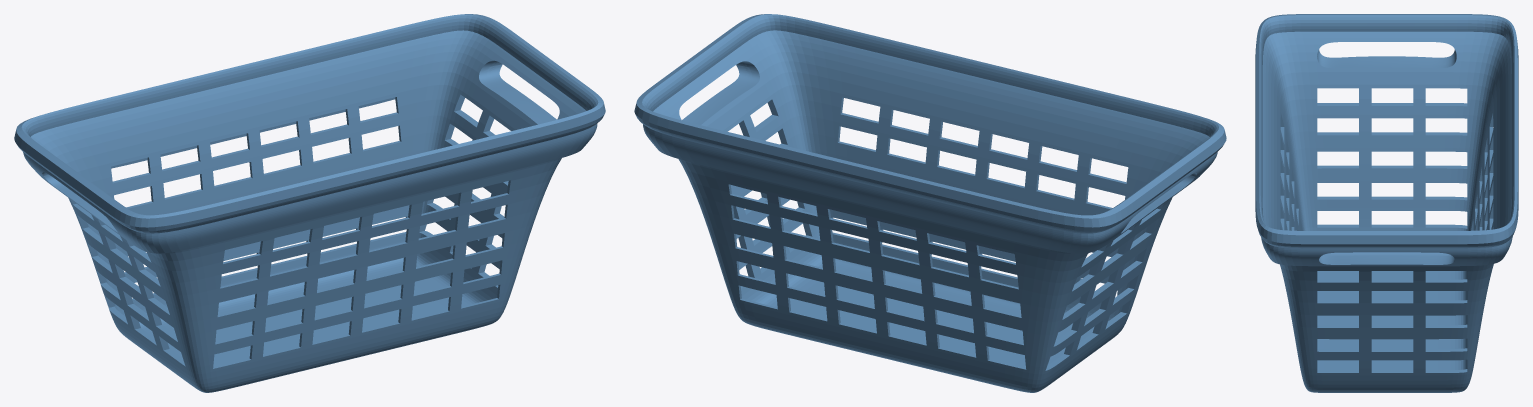
Rendered from laundryBasket.fbx.
The picture shows the model from 3 angles, left to right: view 1: azimuth 30°, elevation 25°; view 2: azimuth 150°, elevation 25°; view 3: azimuth 270°, elevation 25°; orthographic projection. The views are drawn at different scales.
Parts seen in each view (by area): view 1: Plane; view 2: Plane; view 3: Plane.
Part boxes in pixels (x1,y1,x2,y2): Plane: (14, 14, 605, 392); Plane: (634, 14, 1226, 392); Plane: (1255, 14, 1518, 392).
Bounding box in the file's own units: 661 × 284 × 330.
